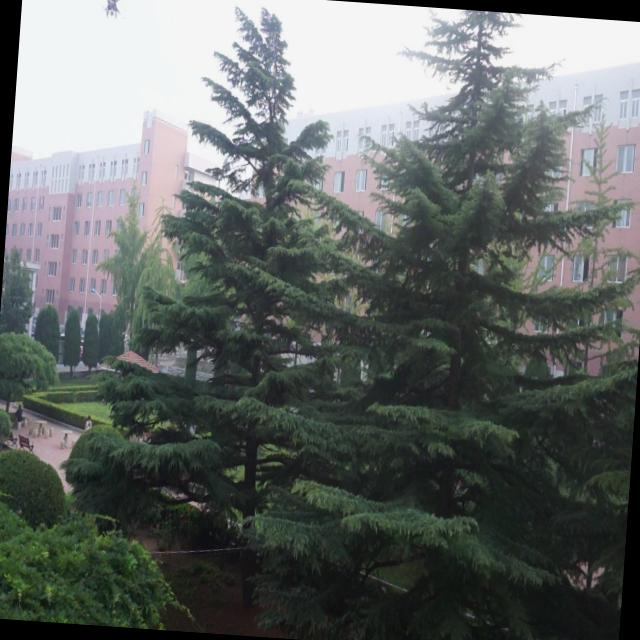drone: (98, 0, 124, 21)
